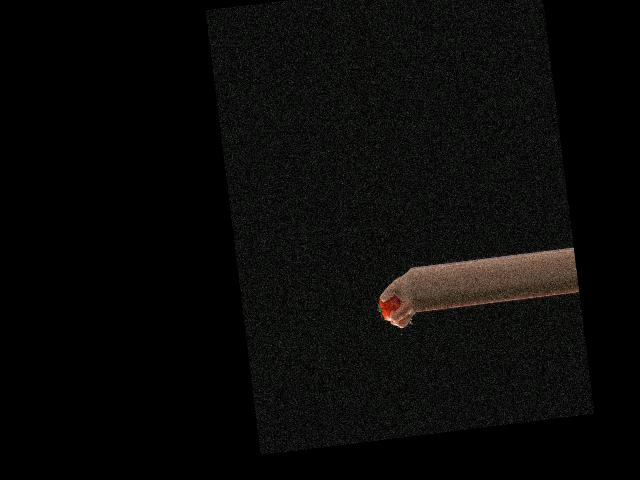tomato: (378, 295, 402, 321)
